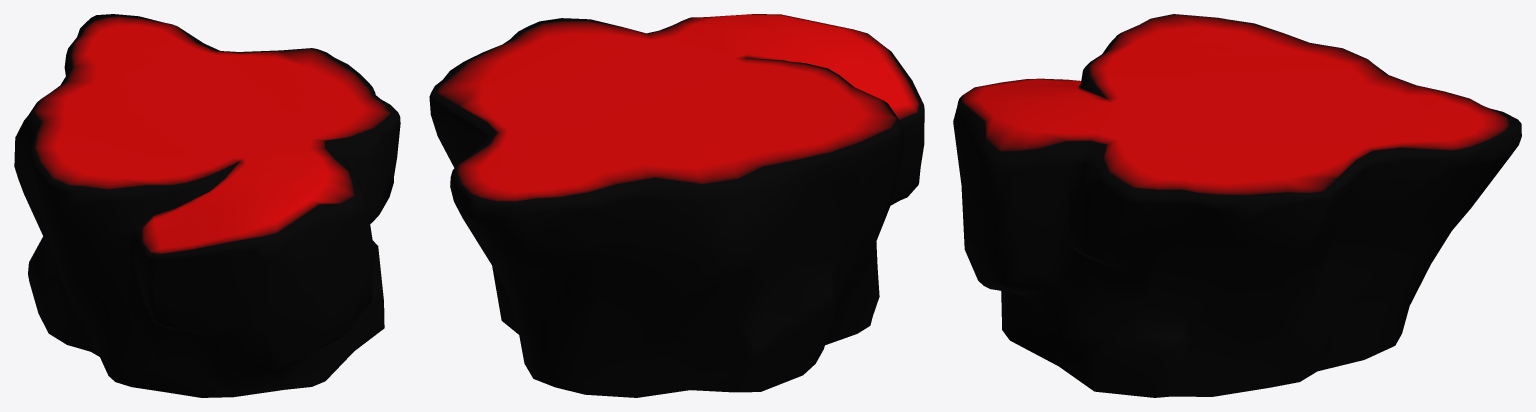
Rendered from Shitou_hill_02.fbx.
3 renders of one model, left to right at view 1: azimuth 30°, elevation 25°; view 2: azimuth 150°, elevation 25°; view 3: azimuth 270°, elevation 25°, orthographic. The views are drawn at different scales.
Parts seen in each view (by area): view 1: Shitou_hill_02_LOD0; view 2: Shitou_hill_02_LOD0; view 3: Shitou_hill_02_LOD0.
Part boxes in pixels (<box>): Shitou_hill_02_LOD0: <box>14,14,400,397</box>; Shitou_hill_02_LOD0: <box>429,14,924,397</box>; Shitou_hill_02_LOD0: <box>953,14,1521,397</box>.
Size of the model in its own units: 362 by 201 by 464.
